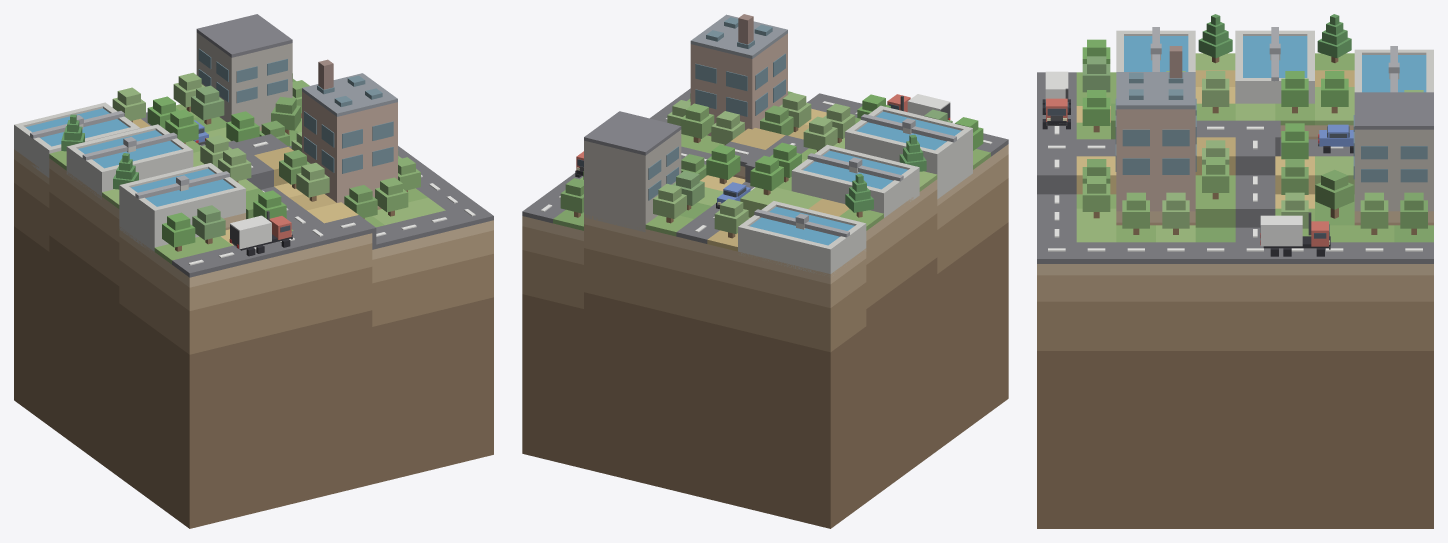
The model's file is block_12_terracing_0.glb.
3 views of the same model, side by side, from view 1: azimuth 30°, elevation 25°; view 2: azimuth 150°, elevation 25°; view 3: azimuth 270°, elevation 25° (orthographic). The views are drawn at different scales.
Parts seen in each view (by area): view 1: Patch_LowerLeft_b11_TR, Factories_LowerLeft_b11_TR, Tanks_LowerLeft_TR, Roads_LowerLeft_b11_TR, Ground_LowerLeft_b11_TR, Asset_Truck.006_TR, Asset_Tree_Round.103_TR, Asset_Tree_Round.075_TR, Asset_Tree_Round.106_TR, Asset_Tree_Round.107_TR, Asset_Tree_Round.110_TR, Asset_Tree_Round.100_TR (+14 smaller); view 2: Patch_LowerLeft_b11_TR, Tanks_LowerLeft_TR, Factories_LowerLeft_b11_TR, Ground_LowerLeft_b11_TR, Roads_LowerLeft_b11_TR, Asset_Truck.006_TR, Asset_Tree_Round.081_TR, Asset_Tree_Round.073_TR, Asset_Tree_Round.078_TR, Asset_Tree_Round.092_TR, Asset_Tree_Round.072_TR, Asset_Tree_Round.090_TR (+9 smaller); view 3: Patch_LowerLeft_b11_TR, Factories_LowerLeft_b11_TR, Roads_LowerLeft_b11_TR, Ground_LowerLeft_b11_TR, Tanks_LowerLeft_TR, Asset_Truck.005_TR, RoadLines_LowerLeft_b11_TR, Asset_Truck.006_TR, Asset_Tree_Round.059_TR, Asset_Tree_Pine.001_TR, Asset_Tree_Pine.003_TR, Asset_Tree_Round.076_TR (+17 smaller).
Part boxes in pixels (x1=…): Patch_LowerLeft_b11_TR: x1=14, y1=126, x2=493, y2=528; Factories_LowerLeft_b11_TR: x1=196, y1=14, x2=397, y2=203; Tanks_LowerLeft_TR: x1=14, y1=102, x2=245, y2=252; Roads_LowerLeft_b11_TR: x1=141, y1=112, x2=493, y2=277; Ground_LowerLeft_b11_TR: x1=49, y1=104, x2=445, y2=264; Asset_Truck.006_TR: x1=229, y1=211, x2=292, y2=256; Asset_Tree_Round.103_TR: x1=296, y1=162, x2=329, y2=201; Asset_Tree_Round.075_TR: x1=191, y1=85, x2=224, y2=124; Asset_Tree_Round.106_TR: x1=162, y1=212, x2=195, y2=251; Asset_Tree_Round.107_TR: x1=192, y1=205, x2=225, y2=244; Asset_Tree_Round.110_TR: x1=375, y1=177, x2=408, y2=216; Asset_Tree_Round.100_TR: x1=218, y1=148, x2=251, y2=182; Patch_LowerLeft_b11_TR: x1=522, y1=144, x2=1008, y2=528; Tanks_LowerLeft_TR: x1=738, y1=105, x2=972, y2=275; Factories_LowerLeft_b11_TR: x1=584, y1=14, x2=787, y2=232; Ground_LowerLeft_b11_TR: x1=553, y1=108, x2=990, y2=251; Roads_LowerLeft_b11_TR: x1=522, y1=88, x2=1008, y2=243; Asset_Truck.006_TR: x1=887, y1=94, x2=950, y2=120; Asset_Tree_Round.081_TR: x1=706, y1=144, x2=740, y2=184; Asset_Tree_Round.073_TR: x1=653, y1=183, x2=686, y2=223; Asset_Tree_Round.078_TR: x1=750, y1=155, x2=783, y2=195; Asset_Tree_Round.092_TR: x1=680, y1=103, x2=714, y2=142; Asset_Tree_Round.072_TR: x1=714, y1=198, x2=748, y2=238; Asset_Tree_Round.090_TR: x1=803, y1=116, x2=837, y2=151; Patch_LowerLeft_b11_TR: x1=1037, y1=125, x2=1433, y2=528; Factories_LowerLeft_b11_TR: x1=1115, y1=46, x2=1433, y2=211; Roads_LowerLeft_b11_TR: x1=1037, y1=72, x2=1433, y2=263; Ground_LowerLeft_b11_TR: x1=1076, y1=53, x2=1433, y2=242; Tanks_LowerLeft_TR: x1=1116, y1=27, x2=1433, y2=103; Asset_Truck.005_TR: x1=1260, y1=212, x2=1330, y2=256; RoadLines_LowerLeft_b11_TR: x1=1048, y1=126, x2=1422, y2=251; Asset_Truck.006_TR: x1=1042, y1=71, x2=1070, y2=129; Asset_Tree_Round.059_TR: x1=1315, y1=169, x2=1354, y2=218; Asset_Tree_Pine.001_TR: x1=1198, y1=14, x2=1232, y2=63; Asset_Tree_Pine.003_TR: x1=1317, y1=14, x2=1351, y2=62; Asset_Tree_Round.076_TR: x1=1360, y1=192, x2=1388, y2=234.
Size of the model in its own units: 9.5 by 11.13 by 9.5.
